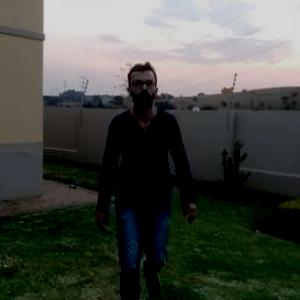follow: (103, 66, 184, 299)
